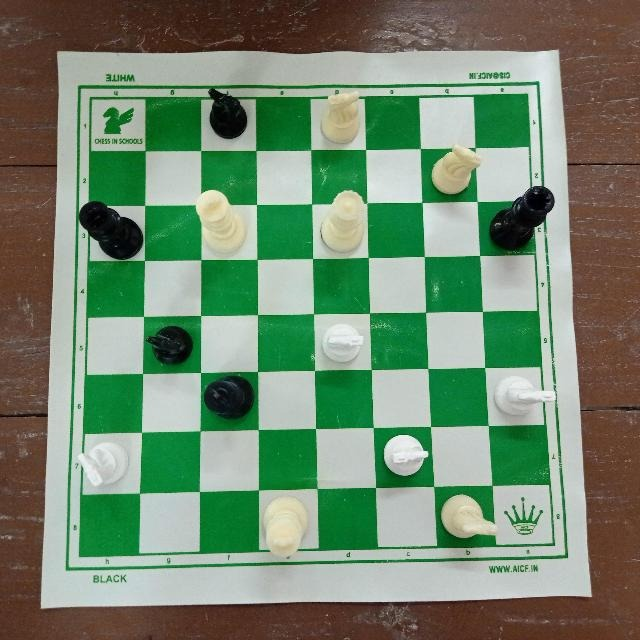black-king: (486, 181, 560, 255), (74, 195, 147, 262), (199, 370, 260, 425)
black-knight: (206, 79, 248, 140), (144, 321, 197, 367)
white-king: (258, 492, 314, 564), (191, 185, 249, 254)
white-knight: (489, 367, 558, 423), (73, 434, 136, 488), (439, 489, 500, 541), (429, 140, 483, 196), (319, 85, 366, 146), (377, 429, 430, 483), (318, 322, 368, 370)
white-queen: (314, 184, 370, 254)
